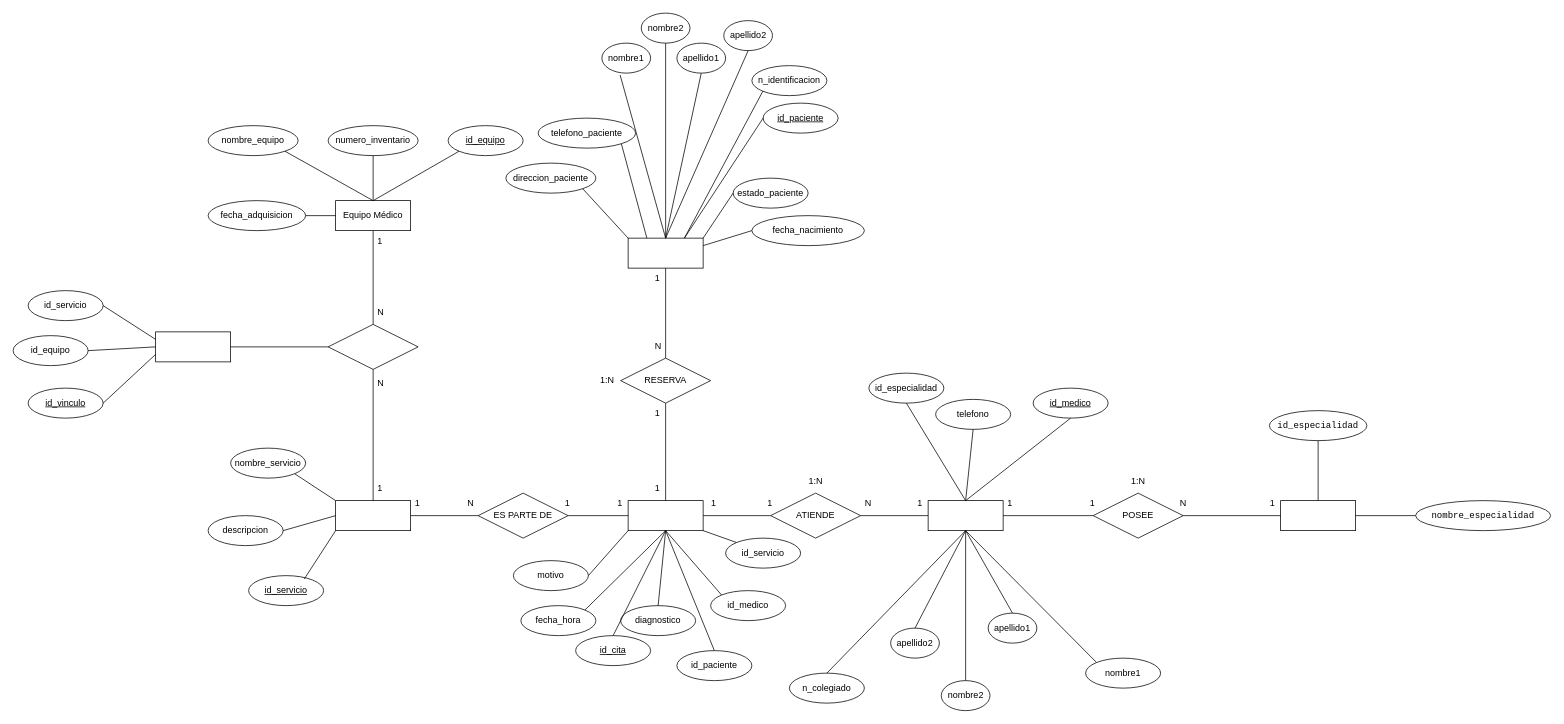
Some shapes in this 1564 by 724 pixel diagram are drawn without their labels. The shapes that lost their labels are listed below. From the top down, each one's centre as x and y in pixels, then its label:
At (x=665, y=252): "Paciente".
At (x=193, y=346): "Vinculo_Servicio".
At (x=372, y=346): "REQUIERE".
At (x=373, y=515): "Servicio Médico".
At (x=665, y=515): "Cita".
At (x=965, y=515): "Medico".
At (x=1318, y=515): "especialidad".
